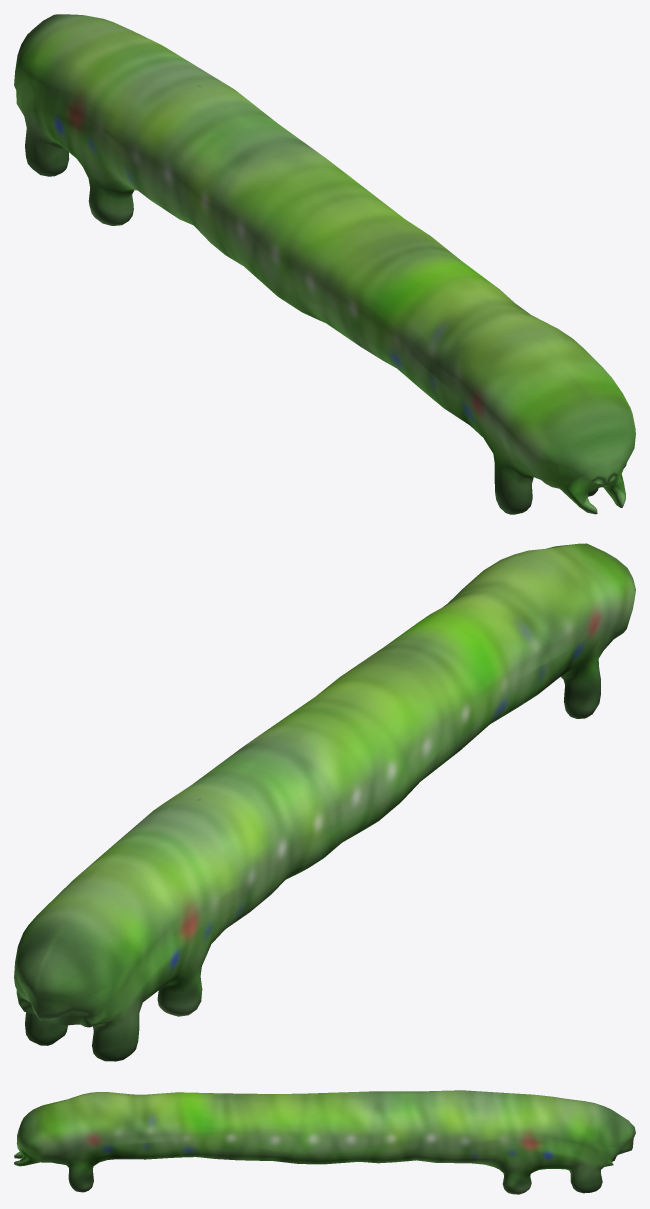
Rendered from oruga.obj.
The picture shows the model from 3 angles, top to bottom: view 1: azimuth 30°, elevation 25°; view 2: azimuth 150°, elevation 25°; view 3: azimuth 270°, elevation 25°; orthographic projection. The views are drawn at different scales.
Visible parts, largest first — view 1: inch_body; view 2: inch_body; view 3: inch_body.
Boxes of the visible parts, left/top/right/bottom form: inch_body: left=14, top=14, right=635, bottom=514; inch_body: left=14, top=543, right=635, bottom=1061; inch_body: left=14, top=1090, right=635, bottom=1194.
Bounding box in the file's own units: 10.63 × 14.37 × 89.61.
Materials: 1 (1 with a texture image).
